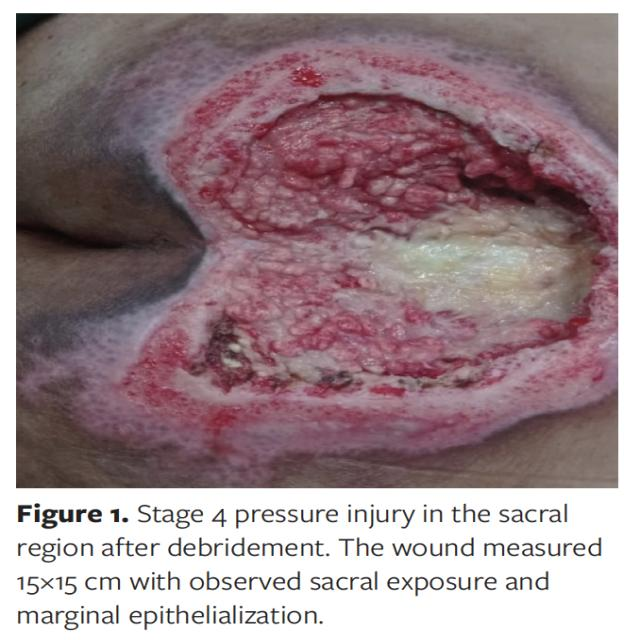stage-4: (128, 43, 620, 436)
